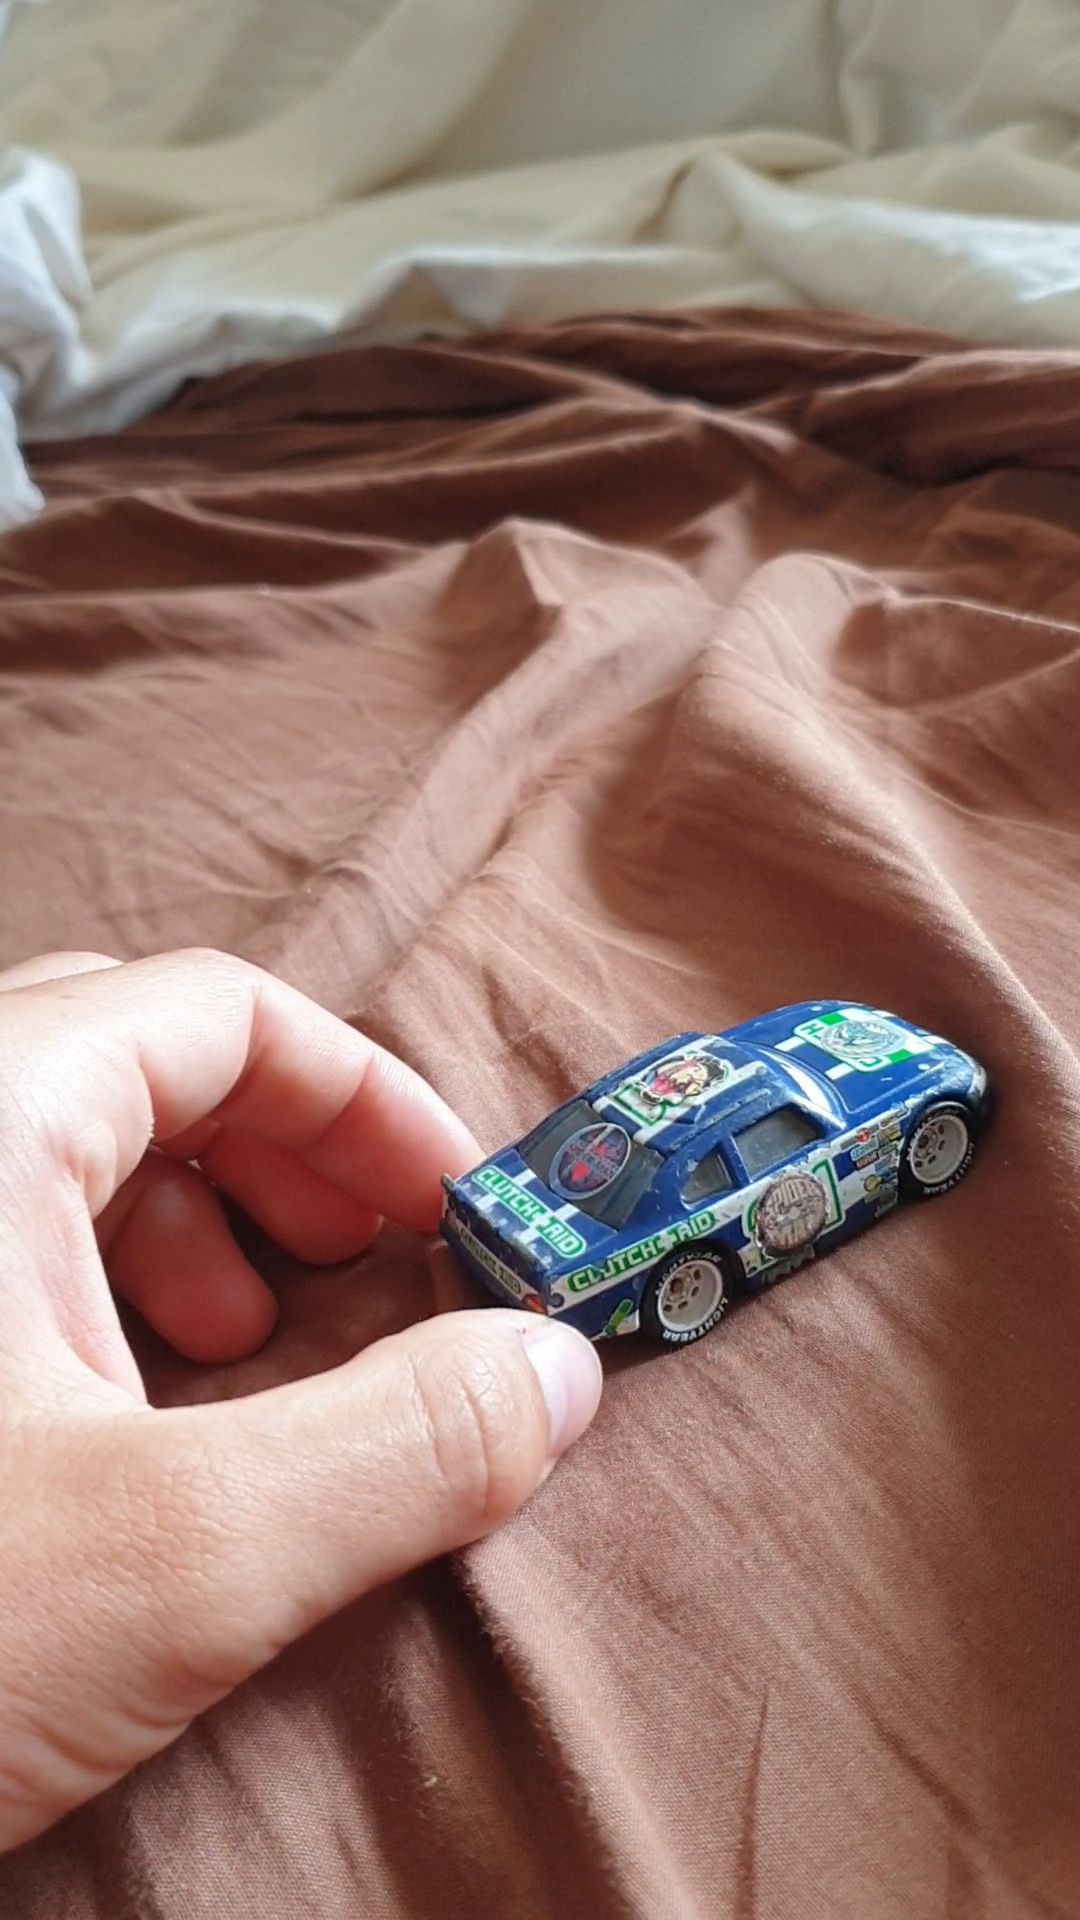cars: (443, 997, 996, 1356)
